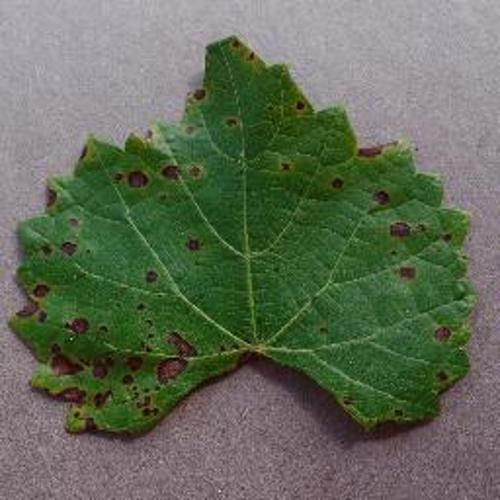Grape: (9, 37, 472, 437)
